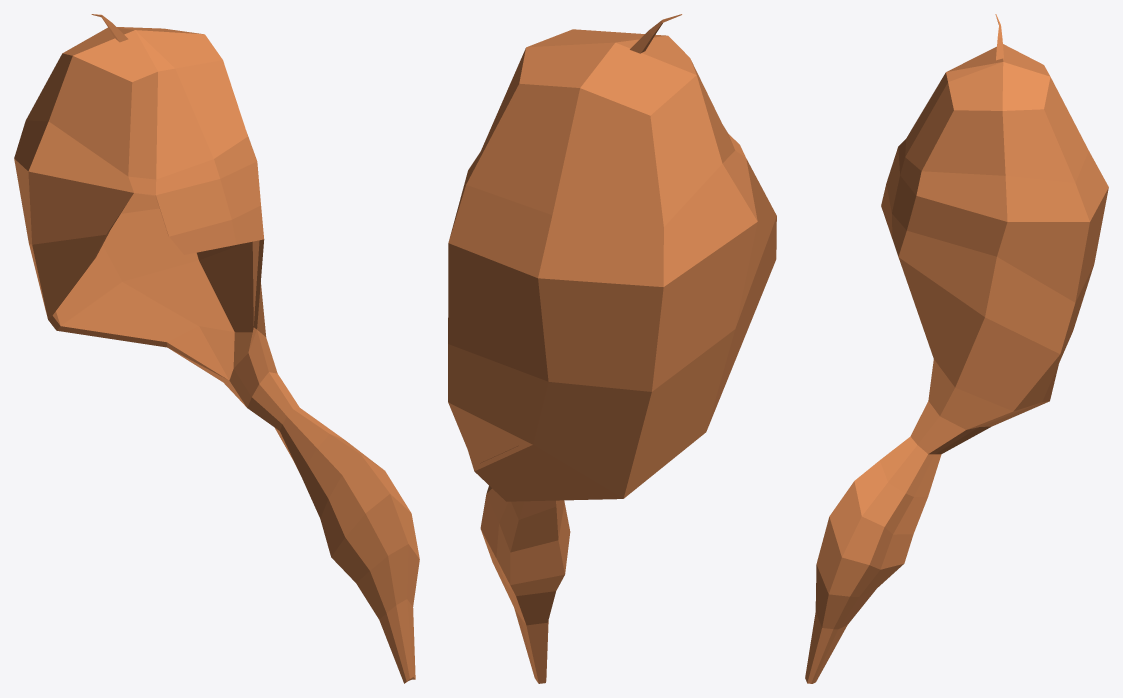
File: hair.fbx
3 renders of one model, left to right at view 1: azimuth 30°, elevation 25°; view 2: azimuth 150°, elevation 25°; view 3: azimuth 270°, elevation 25°, orthographic. The views are drawn at different scales.
Parts seen in each view (by area): view 1: hair; view 2: hair; view 3: hair.
Part boxes in pixels (x1,y1,x2,y2): hair: [14, 14, 419, 683]; hair: [448, 14, 776, 683]; hair: [805, 14, 1108, 683].
Size of the model in its own units: 19.5 by 40.63 by 19.39.
